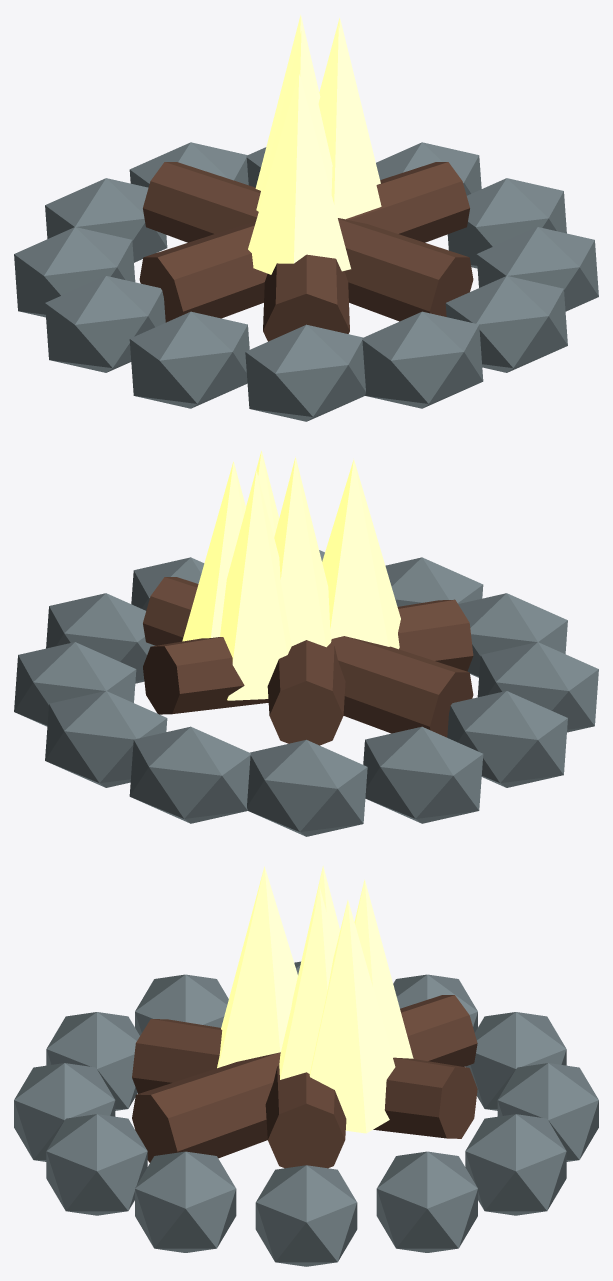
Rendered from campfire.glb.
3 renders of one model, top to bottom at view 1: azimuth 30°, elevation 25°; view 2: azimuth 150°, elevation 25°; view 3: azimuth 270°, elevation 25°, orthographic. The views are drawn at different scales.
Parts seen in each view (by area): view 1: Geometry; view 2: Geometry; view 3: Geometry.
Part boxes in pixels (left/top/right/bottom): Geometry: left=14, top=14, right=598, bottom=421; Geometry: left=14, top=450, right=598, bottom=836; Geometry: left=14, top=865, right=598, bottom=1266.
Size of the model in its own units: 1.77 by 0.9477 by 1.67.
